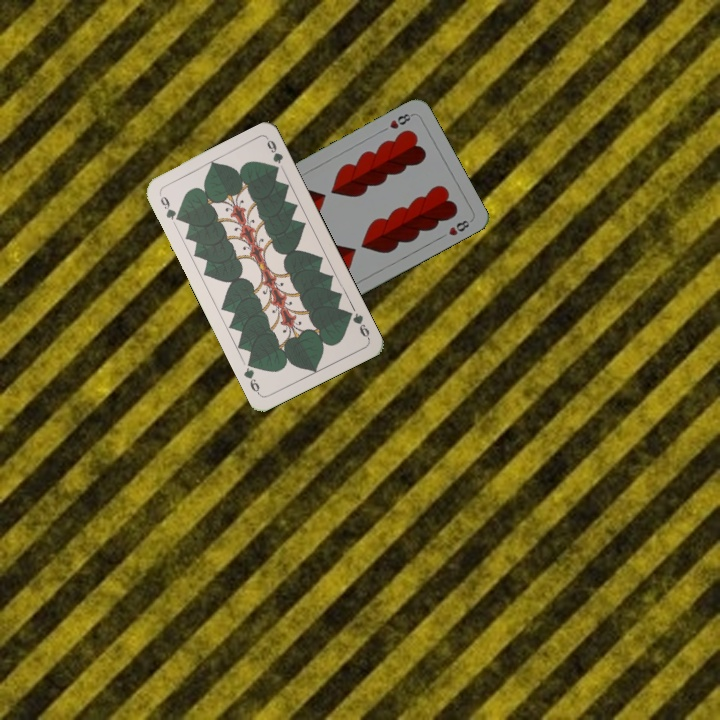G9: (342, 307, 372, 342), (155, 190, 183, 224)
H8: (385, 109, 415, 132)
